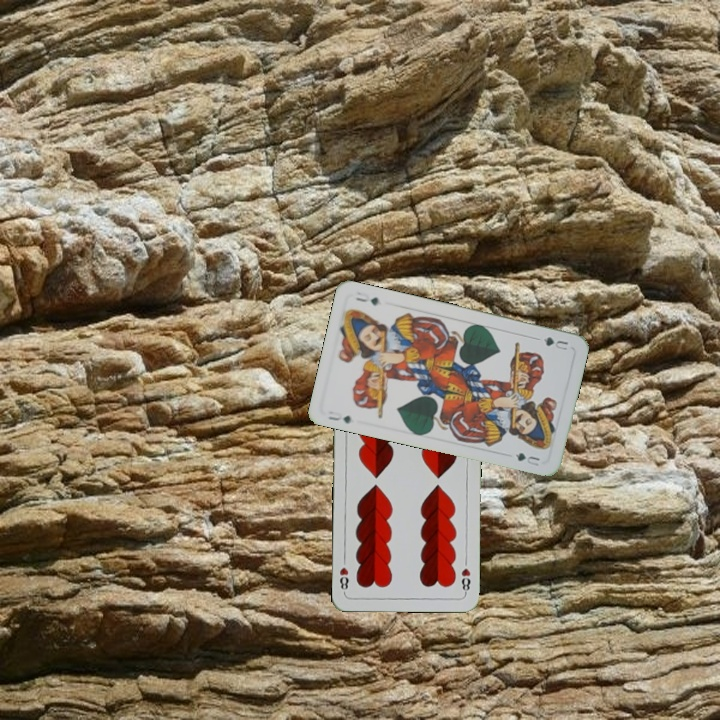GU: (538, 333, 570, 353), (324, 409, 353, 426)
H8: (458, 564, 473, 596)
